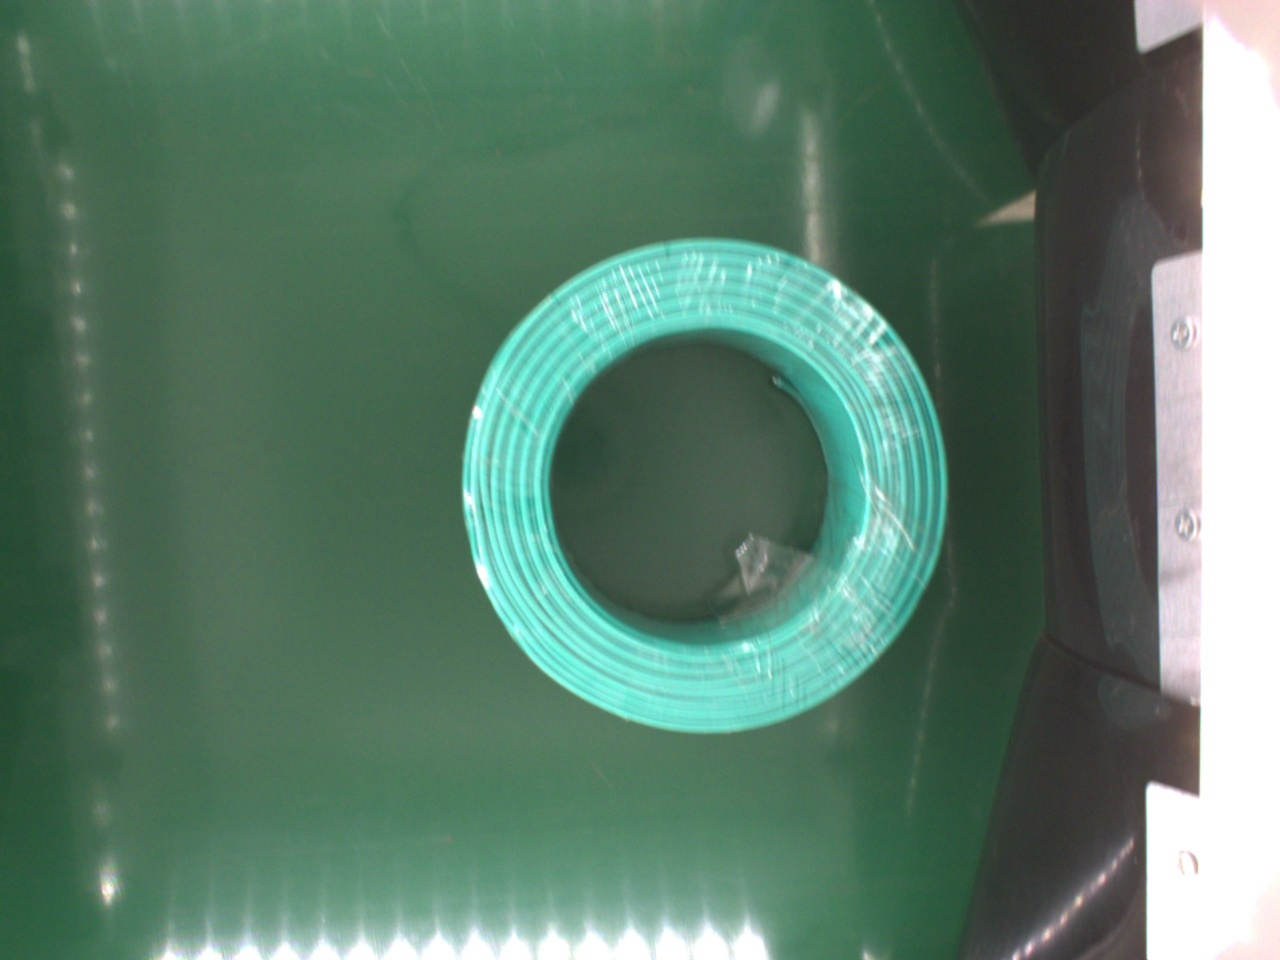green: (460, 234, 952, 742)
